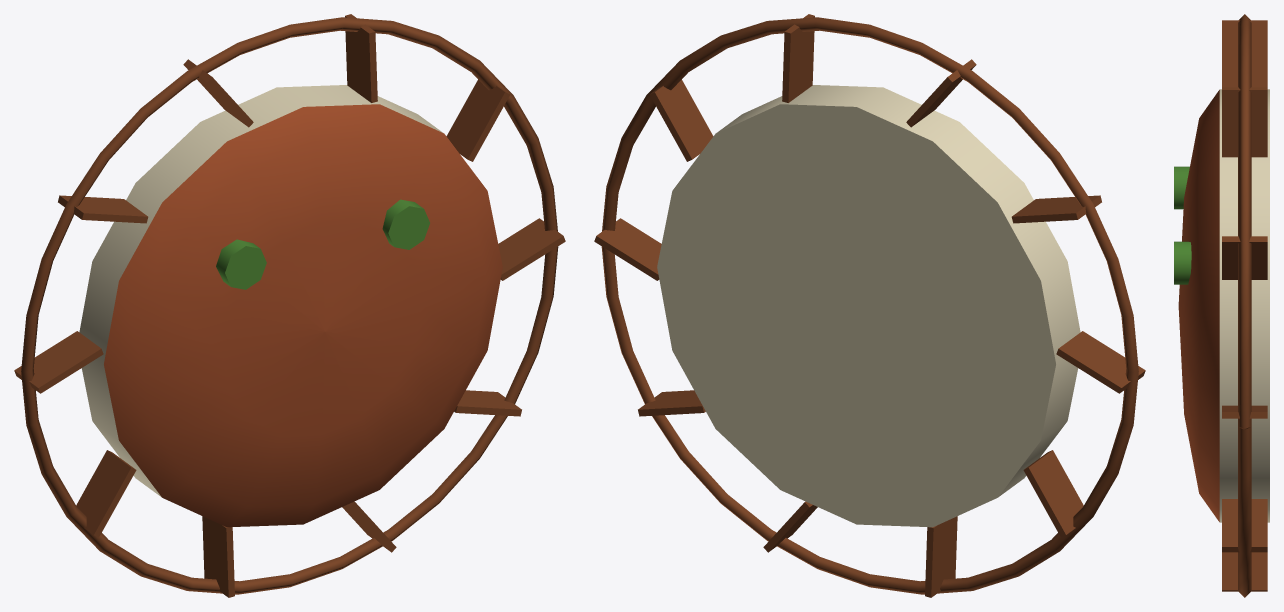
File: pod100_cooler.obj
3 renders of one model, left to right at view 1: azimuth 30°, elevation 25°; view 2: azimuth 150°, elevation 25°; view 3: azimuth 270°, elevation 25°, orthographic. The views are drawn at different scales.
Visible parts, largest first — view 1: pod100_cooler; view 2: pod100_cooler; view 3: pod100_cooler.
Part boxes in pixels (box(x1,y1,x2,y2)): pod100_cooler: box(14, 14, 565, 597); pod100_cooler: box(594, 14, 1145, 597); pod100_cooler: box(1174, 14, 1269, 597).
Size of the model in its own units: 2.56 by 2.56 by 0.42.
